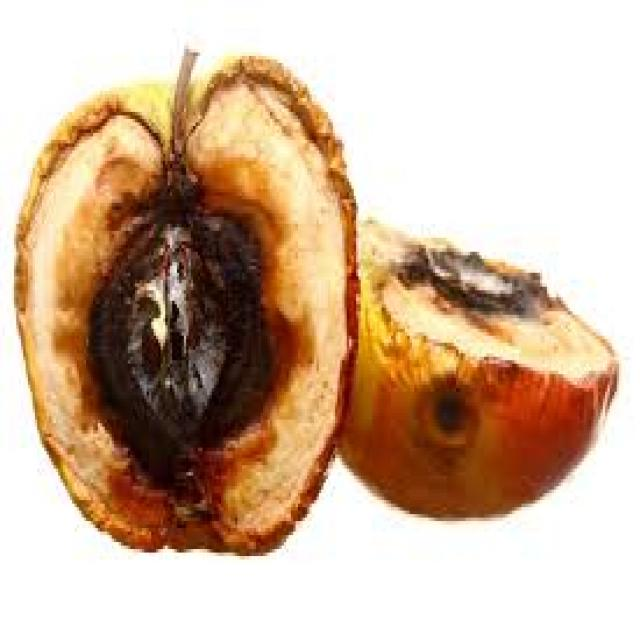organic waste: (11, 42, 358, 556), (338, 213, 614, 521)
